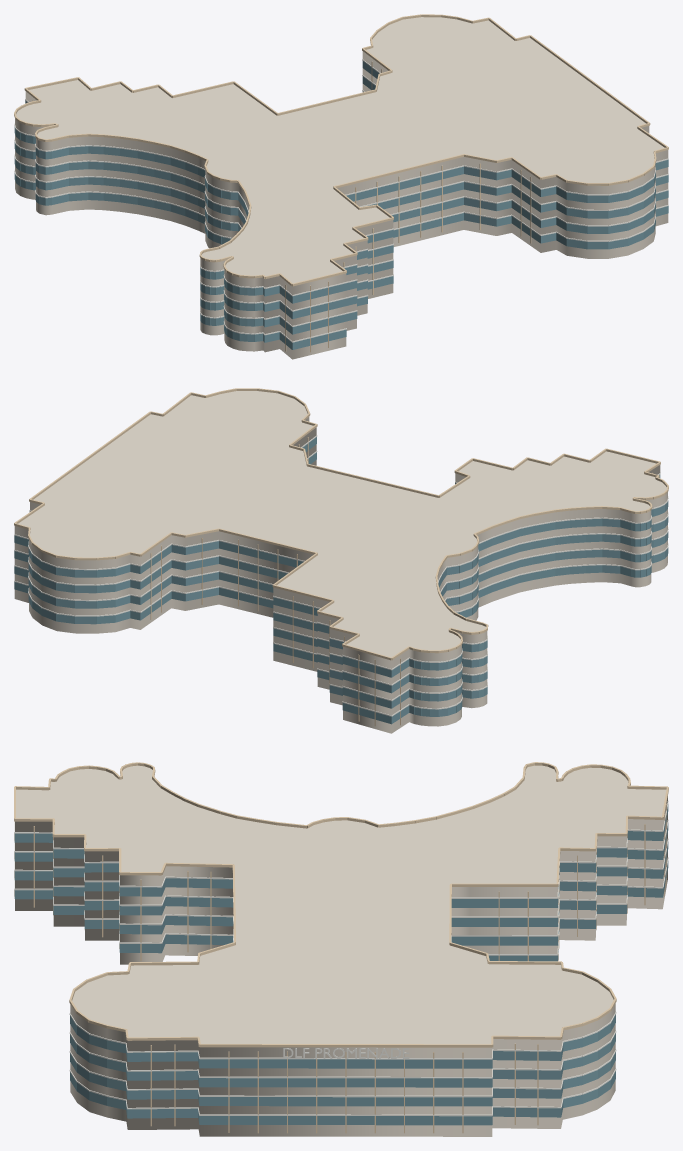
Rendered from dlf-promenade.glb.
3 views of the same model, one above another, from view 1: azimuth 30°, elevation 25°; view 2: azimuth 150°, elevation 25°; view 3: azimuth 270°, elevation 25° (orthographic). The views are drawn at different scales.
Visible parts, largest first — view 1: NCR_dlf-promenade; view 2: NCR_dlf-promenade; view 3: NCR_dlf-promenade.
Part boxes in pixels (x1=…): NCR_dlf-promenade: x1=14, y1=14, x2=668, y2=359; NCR_dlf-promenade: x1=14, y1=388, x2=668, y2=733; NCR_dlf-promenade: x1=14, y1=762, x2=668, y2=1136.
Bounding box in the file's own units: 145 × 22 × 142.
